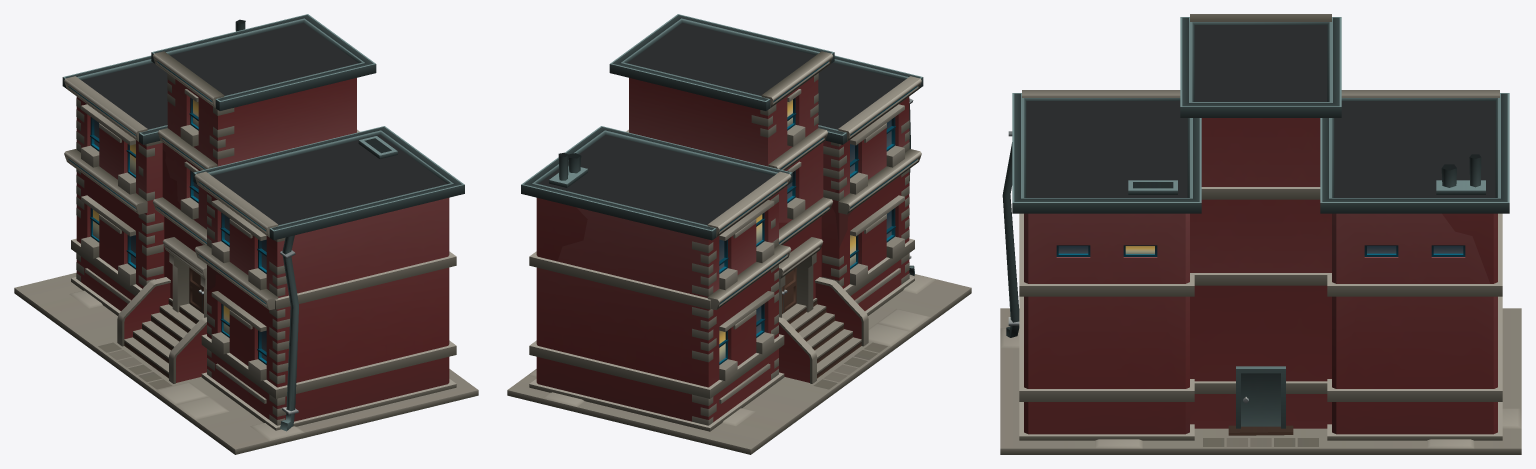
File: Building_5C.fbx
3 views of the same model, side by side, from view 1: azimuth 30°, elevation 25°; view 2: azimuth 150°, elevation 25°; view 3: azimuth 270°, elevation 25° (orthographic). The views are drawn at different scales.
Visible parts, largest first — view 1: Building_5C, Window_Lights_5C; view 2: Building_5C, Window_Lights_5C; view 3: Building_5C.
Boxes of the visible parts, x1,y1,x2,y2 form: Building_5C: [14, 14, 478, 454]; Window_Lights_5C: [93, 99, 229, 334]; Building_5C: [507, 14, 971, 454]; Window_Lights_5C: [719, 99, 855, 361]; Building_5C: [1000, 14, 1521, 454].
Bounding box in the file's own units: 1400 × 1560 × 2200.
